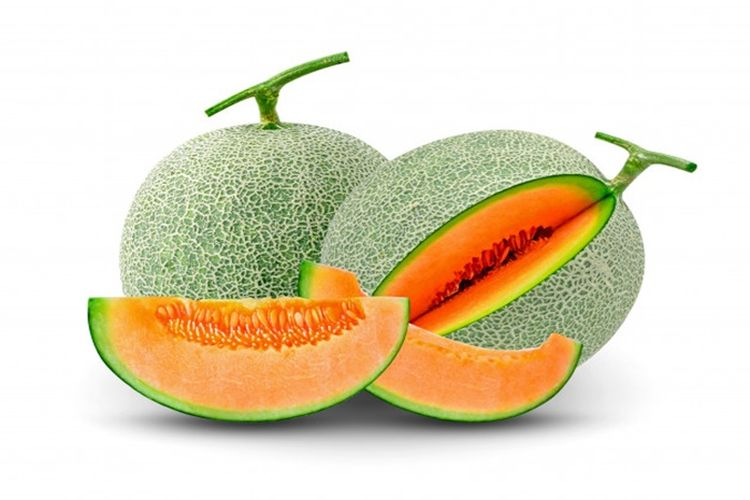Melon: (56, 292, 431, 419), (295, 284, 602, 436)
